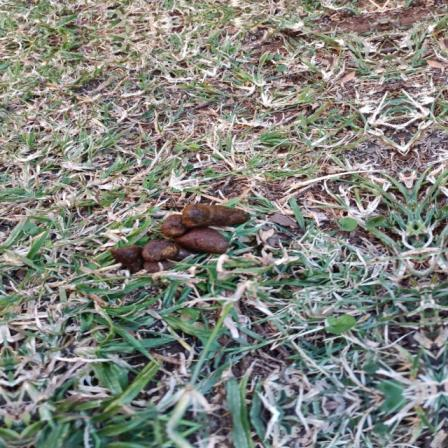dog-poop: (115, 196, 243, 272)
